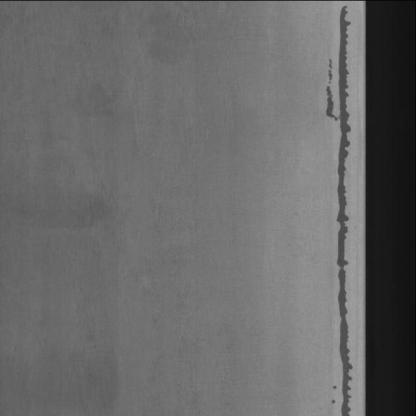oil_spot: (316, 0, 356, 415)
